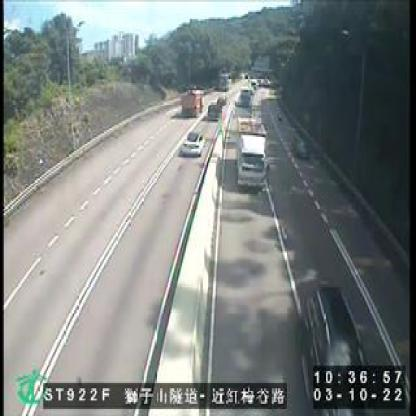Car: (292, 290, 366, 414), (291, 134, 311, 160), (181, 132, 203, 154), (207, 102, 218, 121)
Truck: (234, 116, 264, 189), (180, 86, 202, 112)
